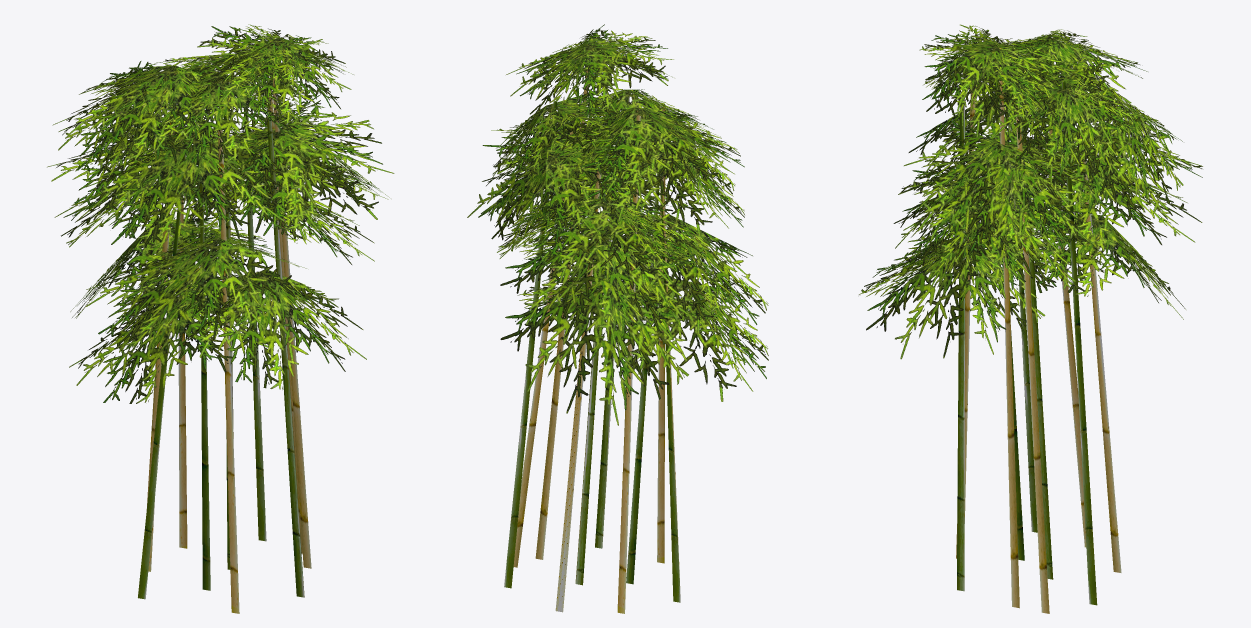
The model's file is bamboo_b.dae.
The picture shows the model from 3 angles, left to right: view 1: azimuth 30°, elevation 25°; view 2: azimuth 150°, elevation 25°; view 3: azimuth 270°, elevation 25°; orthographic projection. The views are drawn at different scales.
Parts seen in each view (by area): view 1: Tube_001; view 2: Tube_001; view 3: Tube_001.
Boxes of the visible parts, left/top/right/bottom form: Tube_001: left=47, top=24, right=394, bottom=613; Tube_001: left=467, top=24, right=768, bottom=613; Tube_001: left=859, top=24, right=1202, bottom=613.
Bounding box in the file's own units: 8.51 × 9.66 × 13.81.
